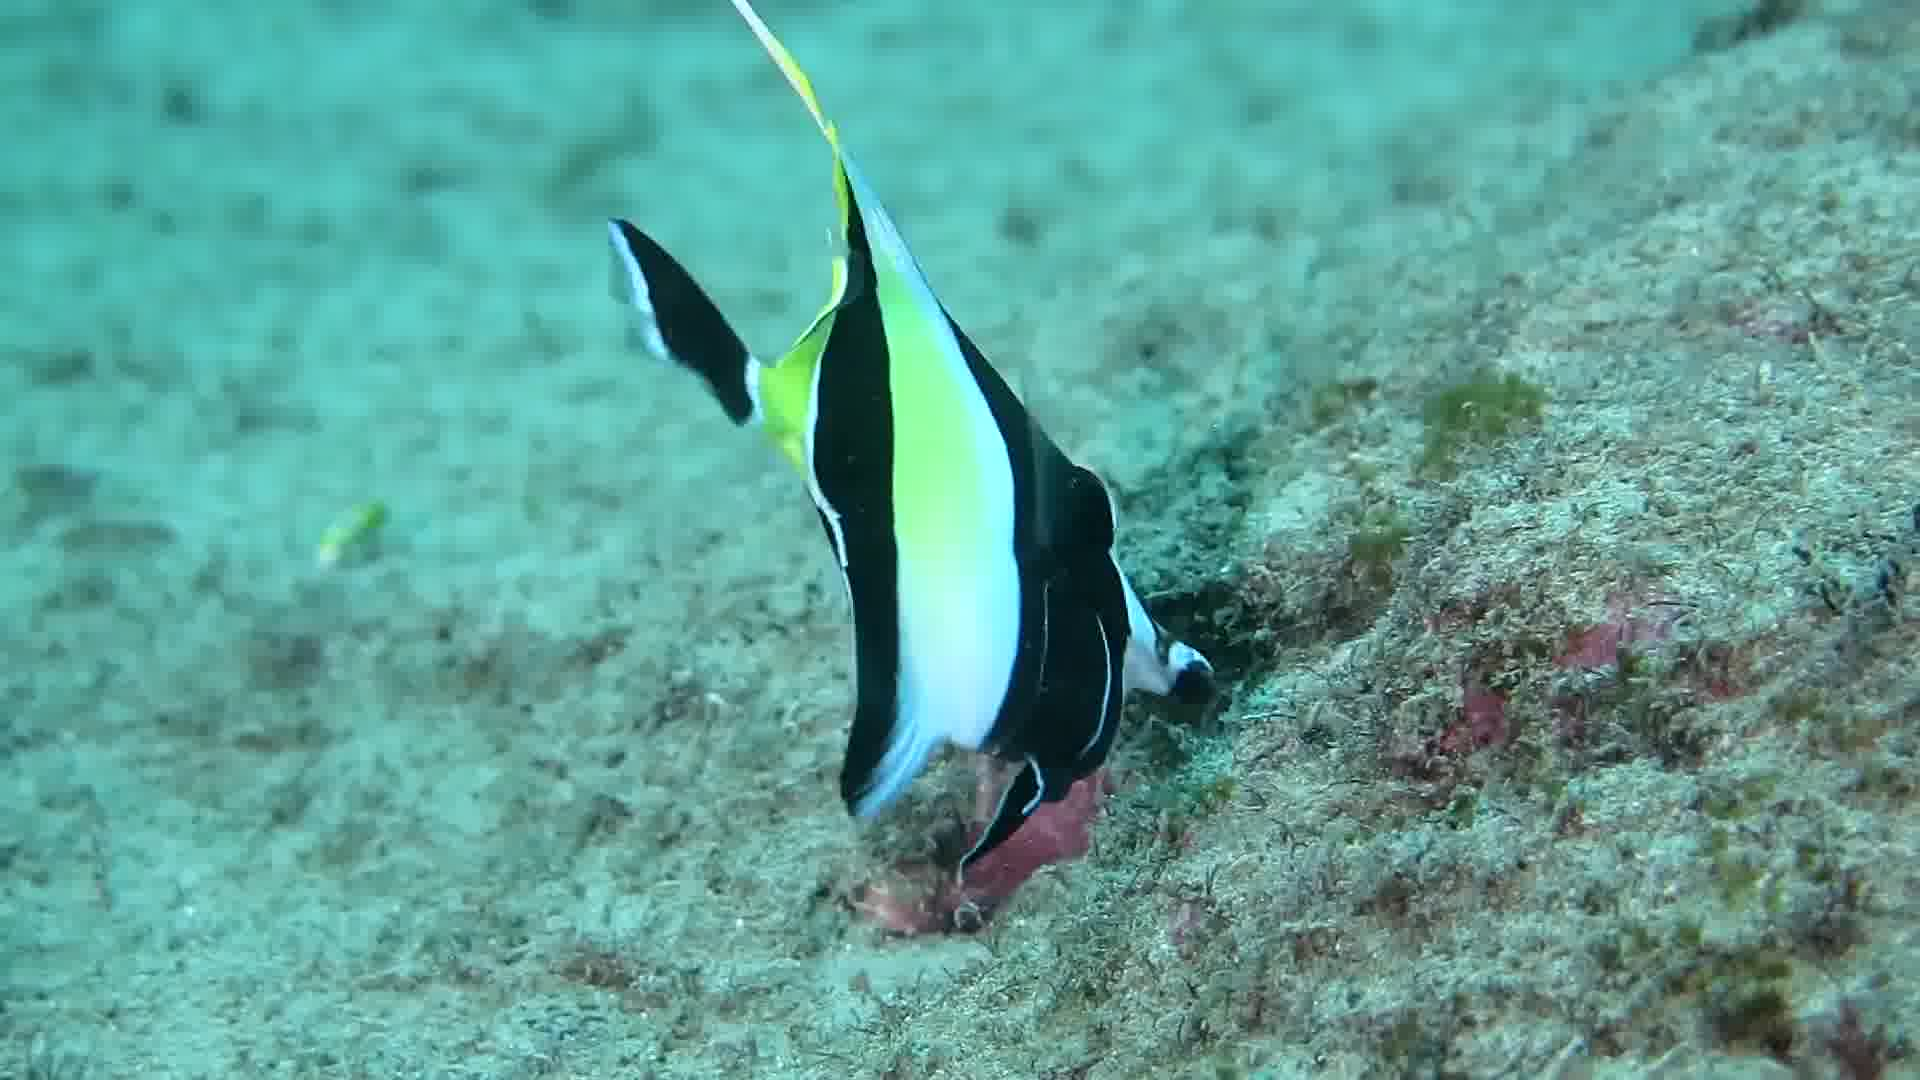Zanclus cornutus: (595, 133, 1288, 895)
